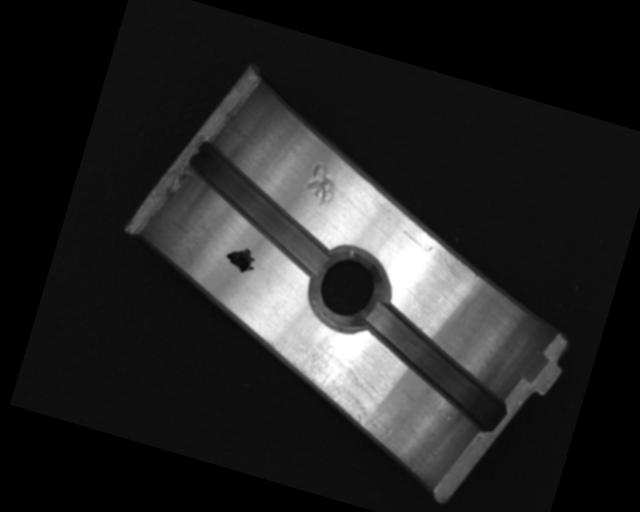blot: (221, 240, 260, 276)
bruise: (297, 160, 343, 211)
gap: (347, 295, 529, 435), (170, 139, 349, 277)
hole: (304, 238, 392, 340)
scratch: (266, 325, 413, 446)
